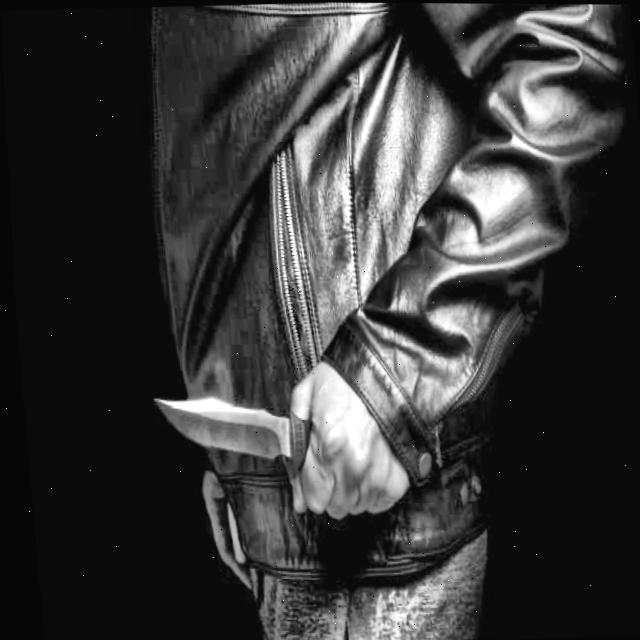pisau: (144, 385, 348, 535)
